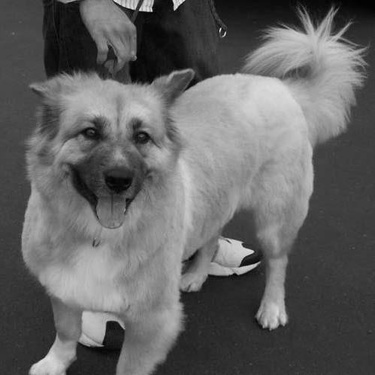dog: (18, 14, 370, 372)
